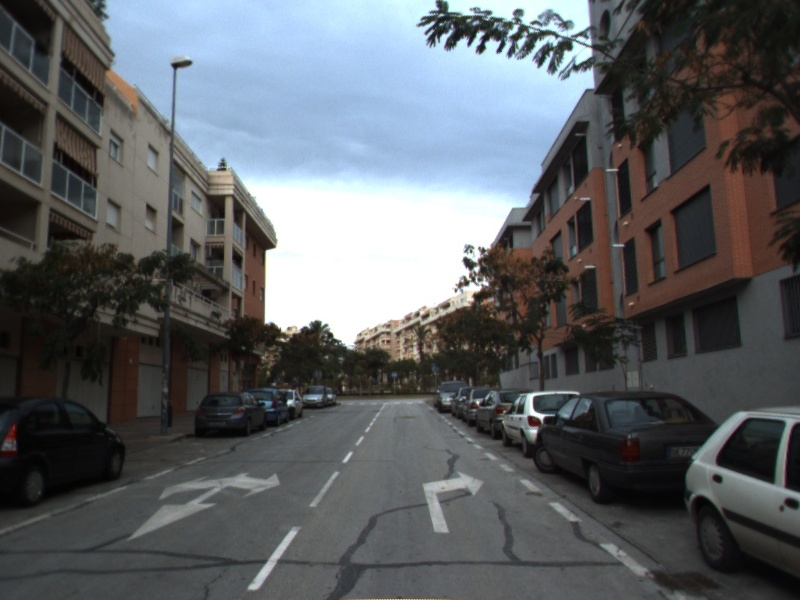RIGHT: (421, 470, 486, 535)
